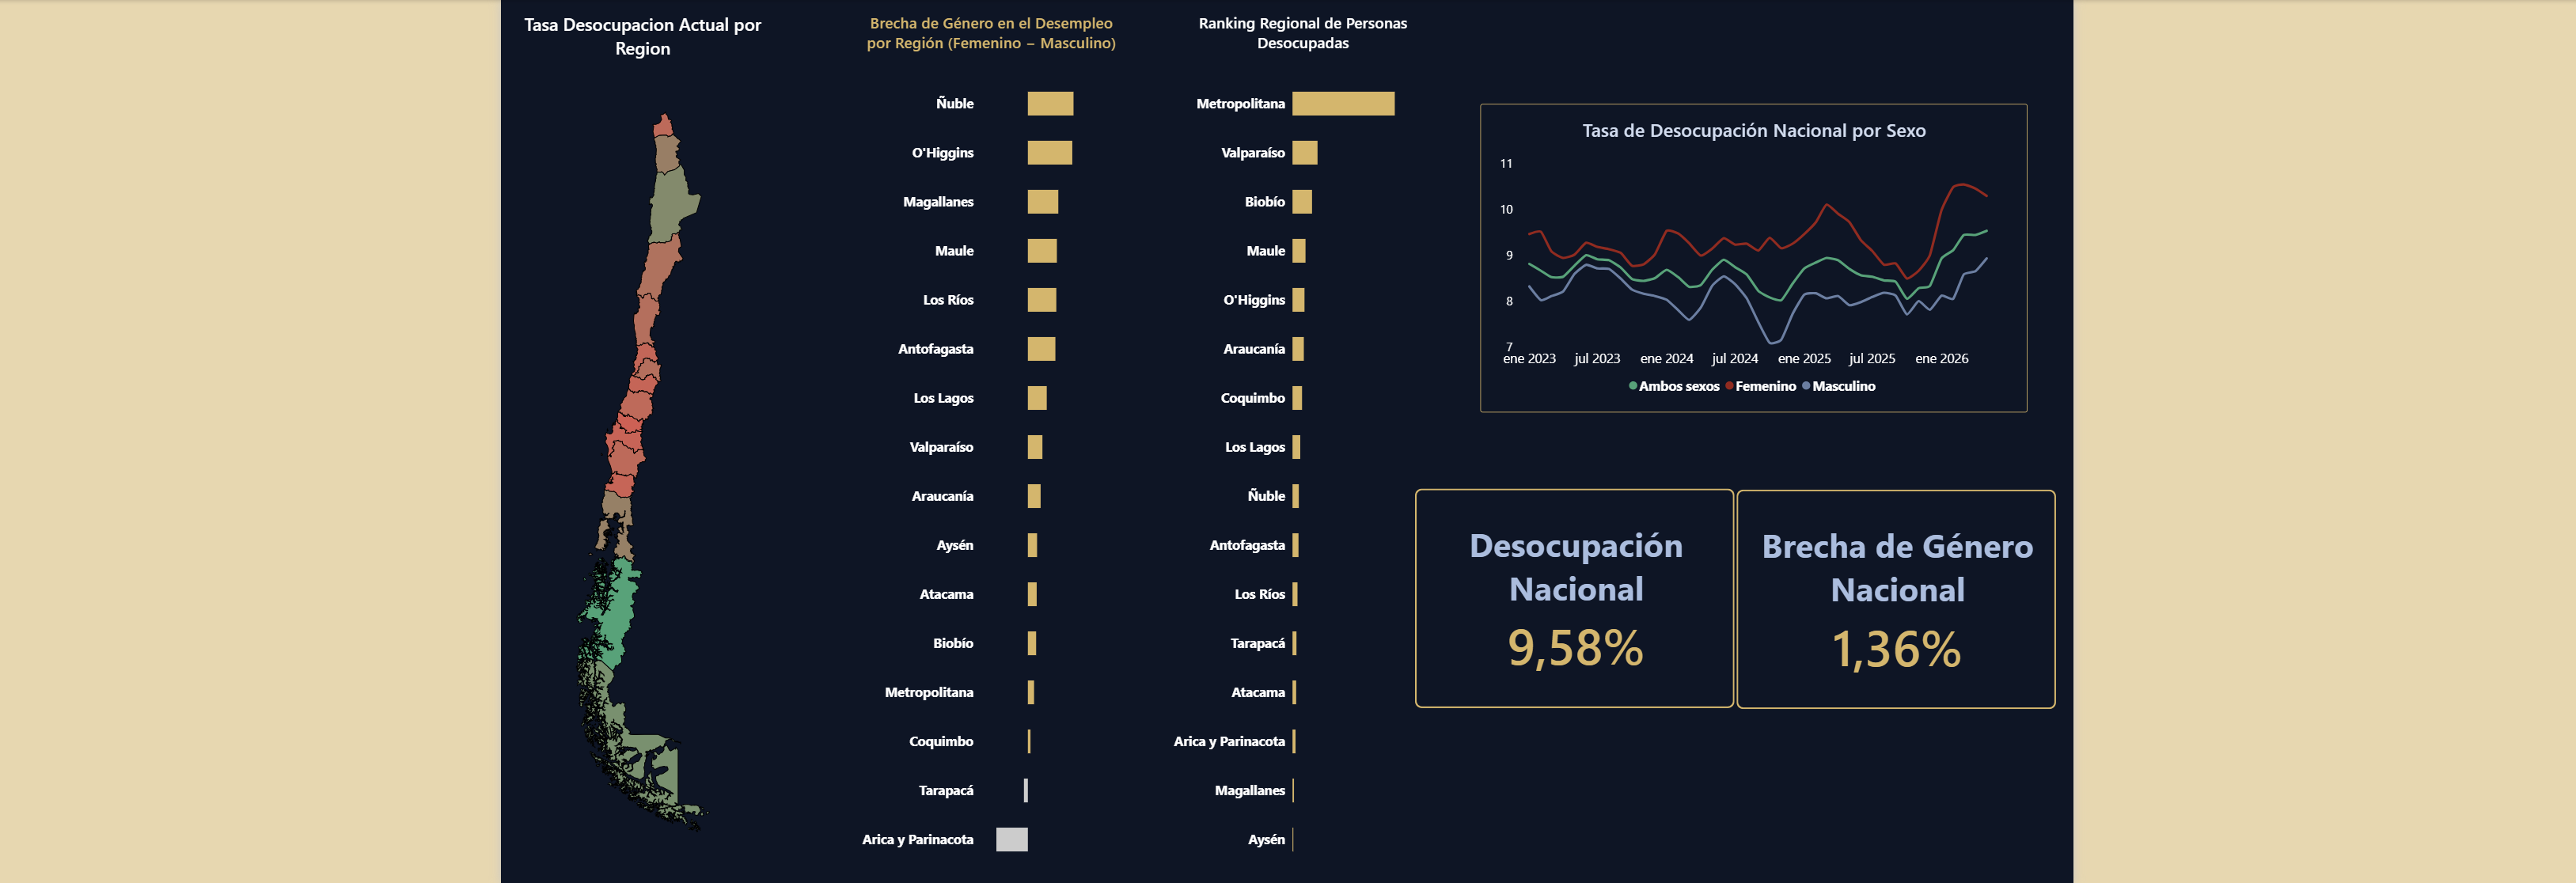

Layout of this report page (visuals, bound fields, positions):
{"tool":"powerbi","page":{"name":"Mercado Laboral","canvas":[1920,1080],"ordinal":1},"visuals":[{"type":"lineChart","title":"Tasa de Desocupación Nacional por Sexo","fields":{"Category":["Calendario.Date"],"Series":["Tasa_Desocupacion_Regional.Sexo"],"Y":["Avg(Tasa_Desocupacion_Regional.Tasa Desocupacion)"]},"box":[1194.9,126.7,668.3,376.7],"z":0},{"type":"shapeMap","fields":{"Category":["Tasa_Desocupacion_Regional.Region"],"Value":["Tasa_Desocupacion_Regional.Tasa_Desocupacion_Actual"]},"box":[0,0,346.7,1080],"z":1000},{"type":"barChart","title":"Brecha de Género en el Desempleo por Región (Femenino − Masculino)","fields":{"Category":["Tasa_Desocupacion_Regional.Region"],"Y":["Tasa_Desocupacion_Regional.Brecha_Genero_Actual"]},"box":[423.3,0,350,1080],"z":2000},{"type":"barChart","title":"Ranking Regional de Personas Desocupadas","fields":{"Category":["Personas_Desocupadas_Regional.Region"],"Y":["Personas_Desocupadas_Regional.Personas_Desocupadas_Actual"]},"box":[804.8,0,350,1080],"z":3000},{"type":"cardVisual","fields":{"Data":["Tasa_Desocupacion_Regional.Tasa_Desocupacion_Actual"]},"box":[1115.8,596.6,390.9,268.9],"z":3001,"group":"g1"},{"type":"cardVisual","fields":{"Data":["Tasa_Desocupacion_Regional.Brecha_Genero_Actual"]},"box":[1508,597.5,390.9,268.9],"z":3002,"group":"g1"},{"type":"group","id":"g1","title":"Grupo 1","box":[1115.8,596.6,783.3,268.7],"z":3003}]}

Visuals, with their boxes on the page's 1920x1080 design canvas (x1, y1, x2, y2). These are canvas units, not pixel positions in the 2576x883 screenshot, which may show the page scaled, cropped or inside an application window:
"Tasa de Desocupación Nacional por Sexo" lineChart: 1195 127 1863 503
shapeMap - Tasa_Desocupacion_Regional.Region x Tasa_Desocupacion_Regional.Tasa_Desocupacion_Actual: 0 0 347 1080
"Brecha de Género en el Desempleo por Región (Femenino − Masculino)" barChart: 423 0 773 1080
"Ranking Regional de Personas Desocupadas" barChart: 805 0 1155 1080
cardVisual - Tasa_Desocupacion_Regional.Tasa_Desocupacion_Actual: 1116 597 1507 866
cardVisual - Tasa_Desocupacion_Regional.Brecha_Genero_Actual: 1508 598 1899 866
"Grupo 1" group: 1116 597 1899 865
